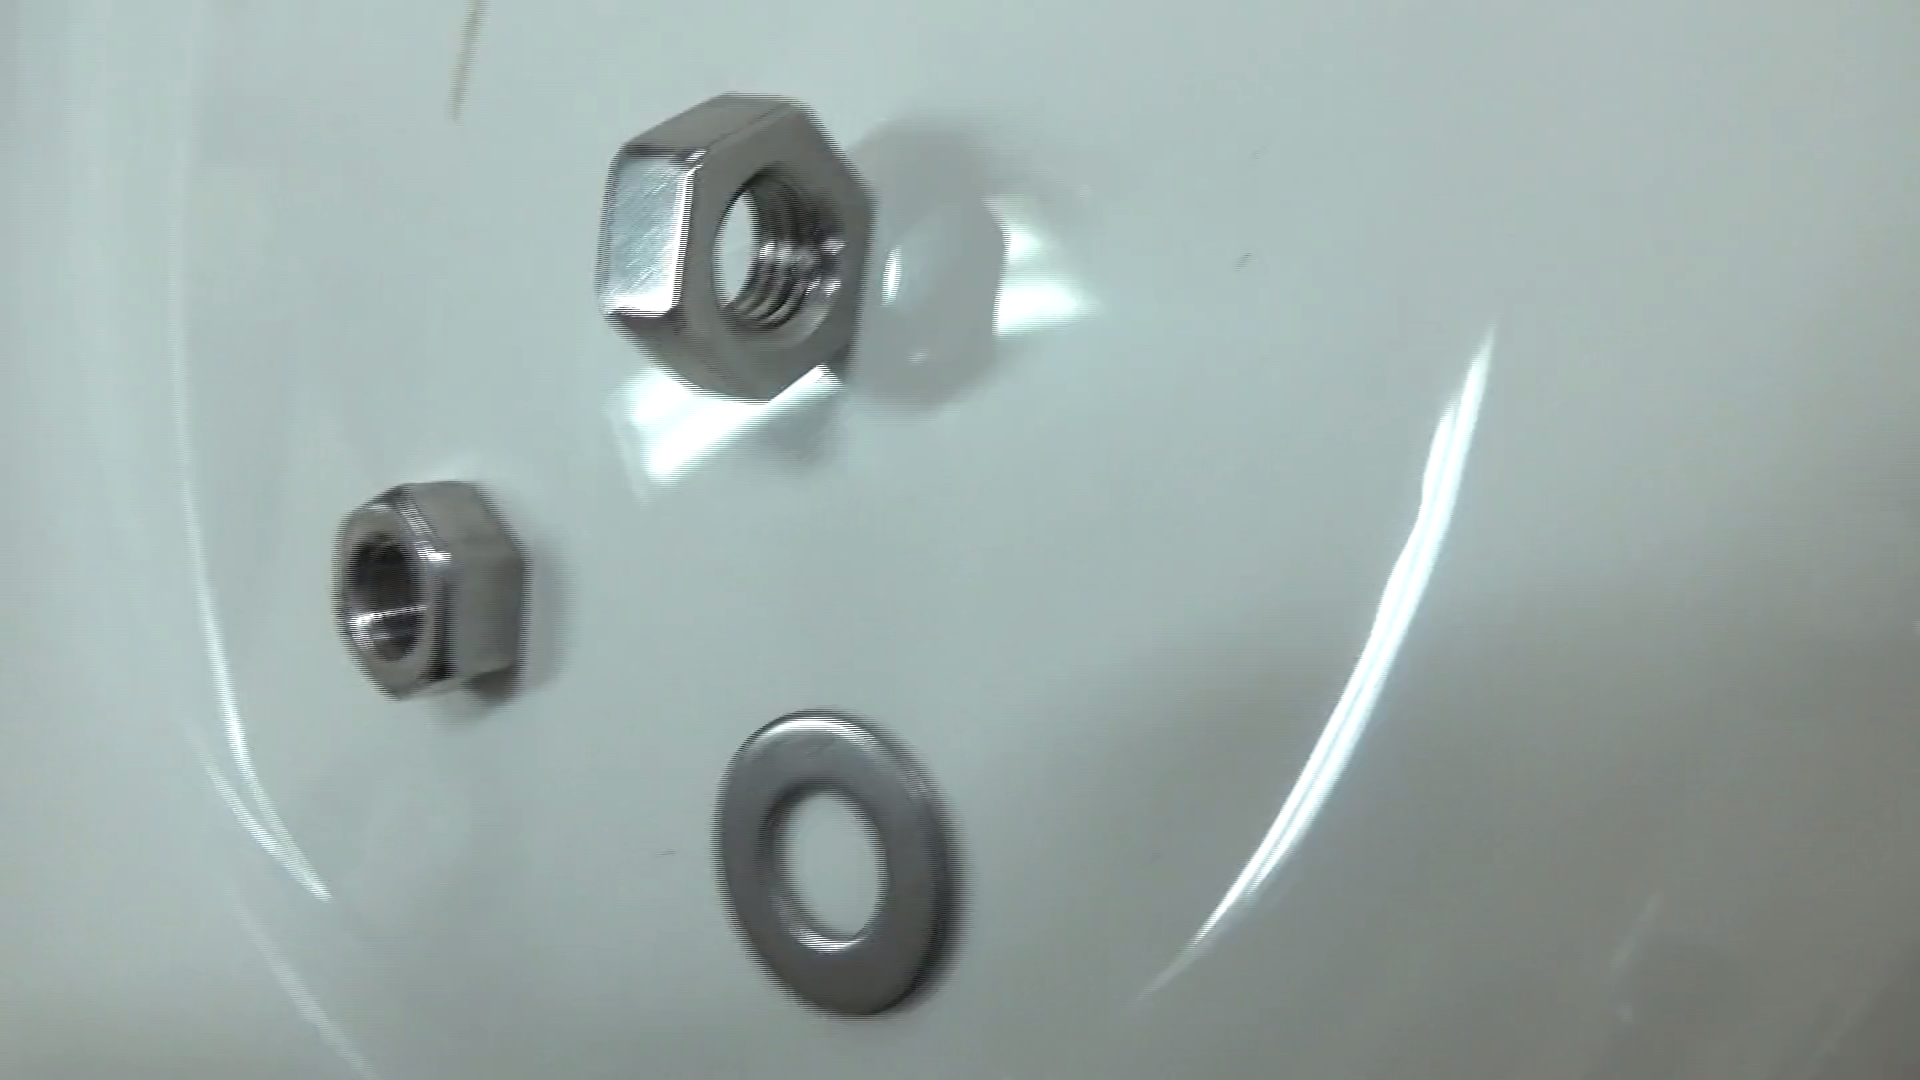nut: (568, 76, 906, 430), (305, 464, 550, 731)
washer: (673, 696, 975, 1036)
